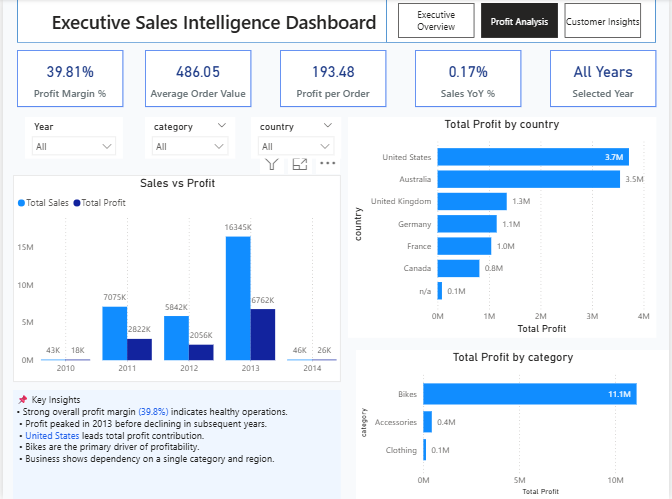

The dashboard page shown, as its layout file describes it:
{"tool":"powerbi","page":{"name":"Profit Analysis","canvas":[960,720],"ordinal":1},"visuals":[{"type":"shape","box":[551.5,0,388.8,63.4],"z":0,"group":"g1"},{"type":"card","fields":{"Values":["_measures.Profit Margin %"]},"box":[20.2,73.4,152.6,82.1],"z":0},{"type":"pageNavigator","box":[568.8,5.8,352.8,50.4],"z":1000,"group":"g1"},{"type":"card","fields":{"Values":["_measures.Average Order Value"]},"box":[204.5,73.4,152.6,82.1],"z":1000},{"type":"card","fields":{"Values":["_measures.Profit per Order"]},"box":[398.9,73.4,152.6,82.1],"z":2000},{"type":"card","fields":{"Values":["_measures.Sales YoY %"]},"box":[593.3,73.4,152.6,82.1],"z":3000},{"type":"card","fields":{"Values":["_measures.Selected Year"]},"box":[787.7,73.4,152.6,82.1],"z":4000},{"type":"clusteredColumnChart","title":"Sales  vs Profit","fields":{"Category":["gold fact_sales.order_date.Variation.Date Hierarchy.Year"],"Y":["_measures.Total Sales","_measures.Total Profit"]},"box":[14.4,253.4,472.3,298.1],"z":5000},{"type":"textbox","box":[14.4,563,472.3,157],"z":6000},{"type":"shape","box":[20.2,0,920.2,63.4],"z":7000},{"type":"textbox","box":[64.8,8.6,558.7,47.5],"z":8000},{"type":"slicer","fields":{"Values":["gold fact_sales.order_date.Variation.Date Hierarchy.Year"]},"box":[31.7,169.9,141.1,60.5],"z":9000},{"type":"barChart","fields":{"Category":["gold dim_customers.country"],"Y":["_measures.Total Profit"]},"box":[496.8,169.9,443.5,318.2],"z":10000},{"type":"slicer","fields":{"Values":["gold dim_products.category"]},"box":[204.5,169.9,129.6,60.5],"z":11000},{"type":"slicer","fields":{"Values":["gold dim_customers.country"]},"box":[357.1,169.9,129.6,60.5],"z":12000},{"type":"barChart","fields":{"Category":["gold dim_products.category"],"Y":["_measures.Total Profit"]},"box":[508.3,505.4,452.2,214.6],"z":13000},{"type":"group","id":"g1","title":"Group 1","box":[551.5,0,388.8,63.4],"z":14000}]}

Visuals, with their boxes in screenshot pixels (x1, y1, x2, y2), scaled from the page's 960x720 canvas onto the 672x499 screenshot:
shape: bbox=[386, 0, 658, 44]
card - _measures.Profit Margin %: bbox=[14, 51, 121, 108]
pageNavigator: bbox=[398, 4, 645, 39]
card - _measures.Average Order Value: bbox=[143, 51, 250, 108]
card - _measures.Profit per Order: bbox=[279, 51, 386, 108]
card - _measures.Sales YoY %: bbox=[415, 51, 522, 108]
card - _measures.Selected Year: bbox=[551, 51, 658, 108]
"Sales  vs Profit" clusteredColumnChart: bbox=[10, 176, 341, 382]
textbox: bbox=[10, 390, 341, 498]
shape: bbox=[14, 0, 658, 44]
textbox: bbox=[45, 6, 436, 39]
slicer - gold fact_sales.order_date.Variation.Date Hierarchy.Year: bbox=[22, 118, 121, 160]
barChart - gold dim_customers.country x _measures.Total Profit: bbox=[348, 118, 658, 338]
slicer - gold dim_products.category: bbox=[143, 118, 234, 160]
slicer - gold dim_customers.country: bbox=[250, 118, 341, 160]
barChart - gold dim_products.category x _measures.Total Profit: bbox=[356, 350, 671, 498]
"Group 1" group: bbox=[386, 0, 658, 44]
